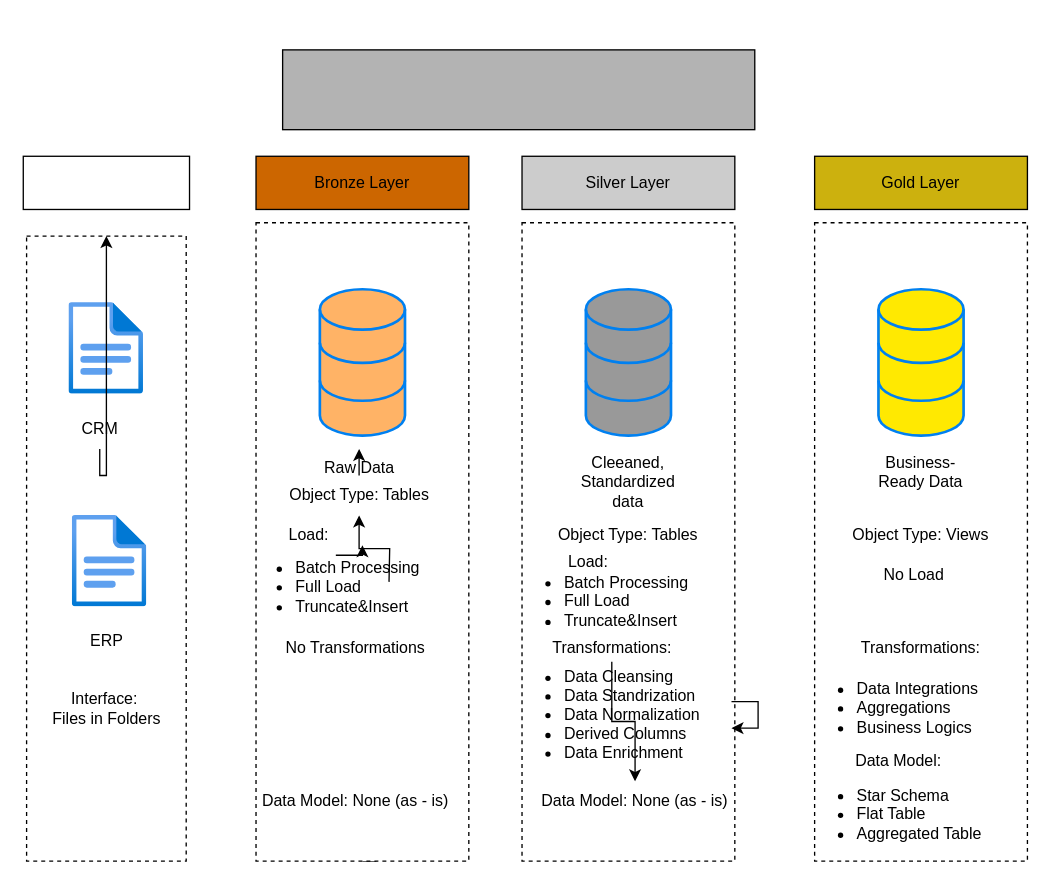
The diagram is 1051 pixels wide and 895 high, and some of its shapes have lost their labels. Each missing label, with the centre of its shape:
"Data Warehouse" belongs at [518,89].
"Source" belongs at [106,182].
